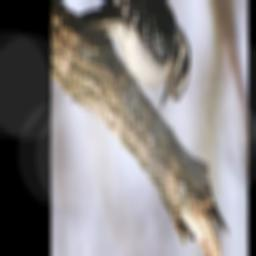Woodpecker: (76, 0, 198, 114)
